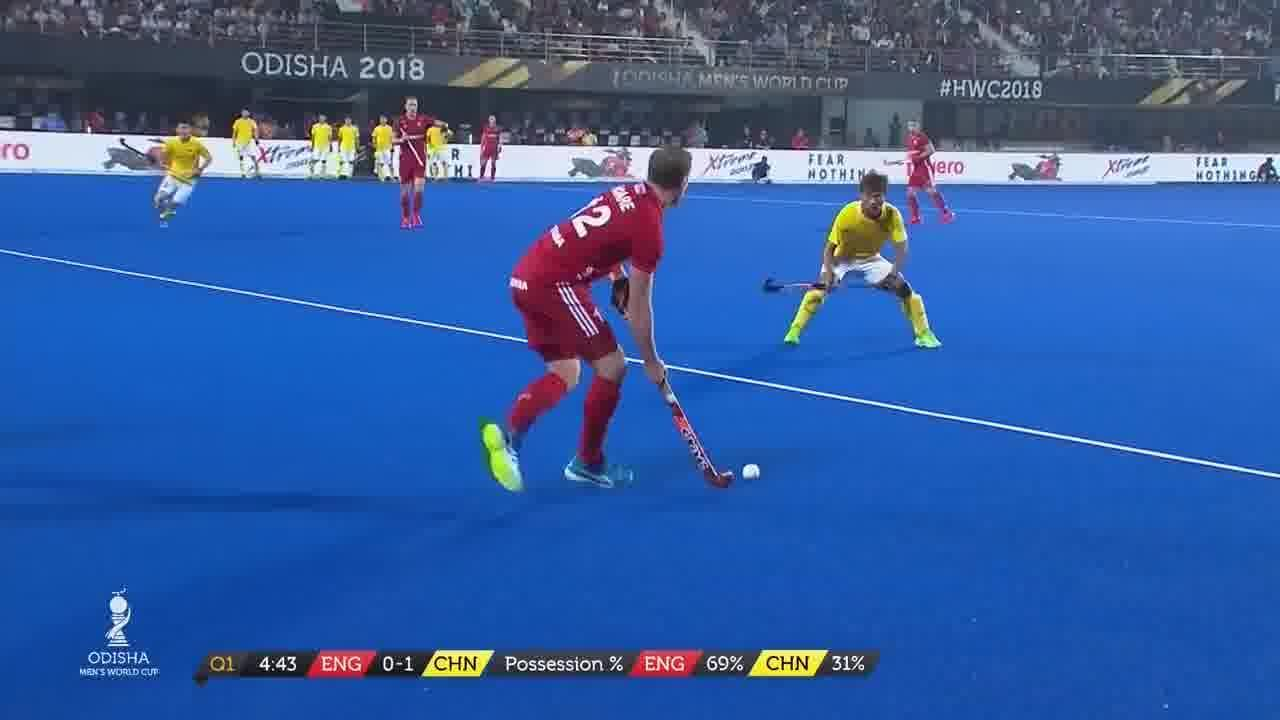ball: (736, 450, 772, 490)
